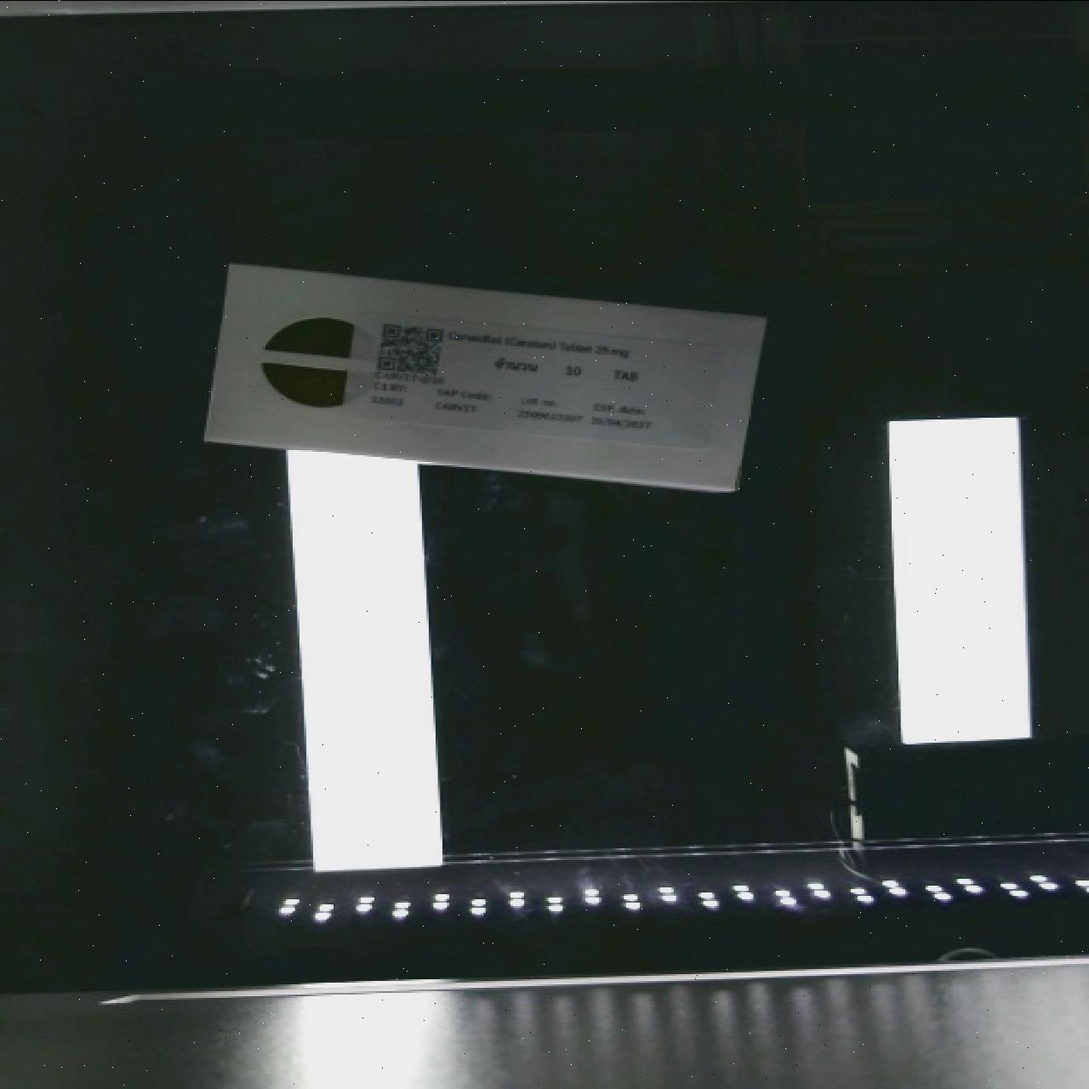qr_code: (367, 311, 458, 387)
